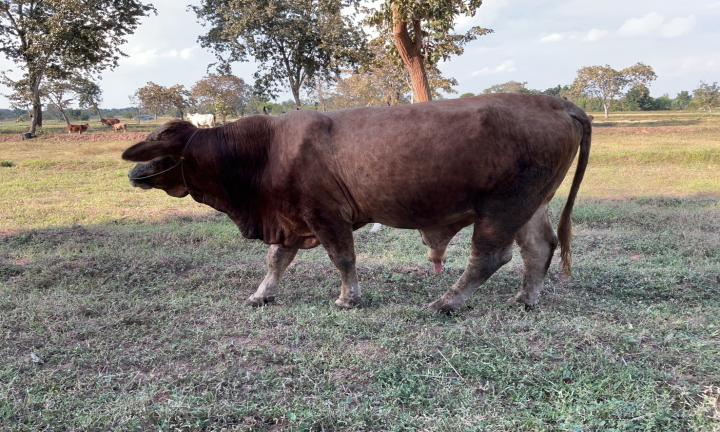Charolais: (122, 94, 592, 310)
